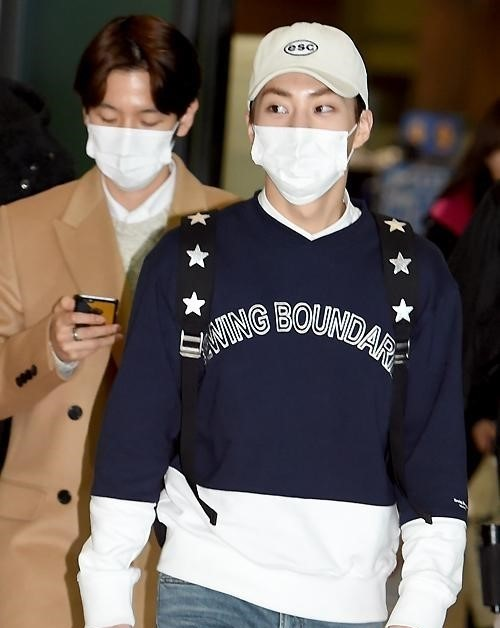face_mask: (253, 58, 352, 201), (92, 71, 169, 185)
